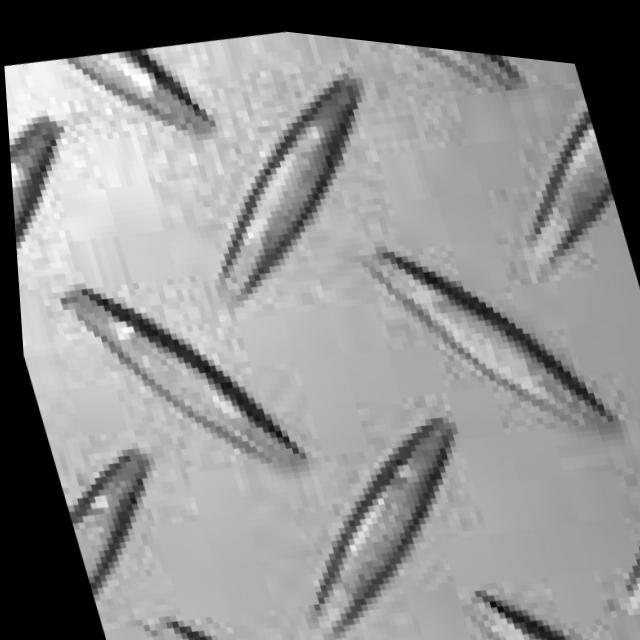metal-plates: (4, 26, 640, 640)
